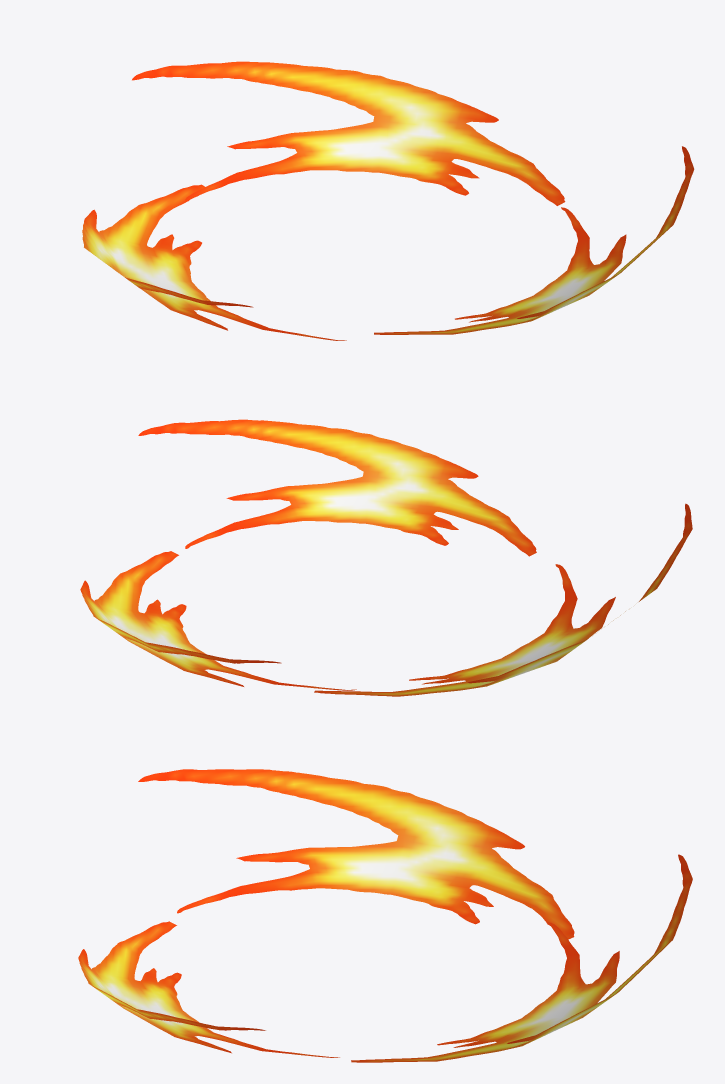
The model's file is Flame_Spin01.FBX.
3 views of the same model, one above another, from view 1: azimuth 30°, elevation 25°; view 2: azimuth 150°, elevation 25°; view 3: azimuth 270°, elevation 25° (orthographic). The views are drawn at different scales.
Parts seen in each view (by area): view 1: Sphere004; view 2: Sphere004; view 3: Sphere004.
Boxes of the visible parts, x1,y1,x2,y2 form: Sphere004: (82,61,694,340); Sphere004: (80,419,692,696); Sphere004: (78,769,692,1062).
Size of the model in its own units: 116 by 17.92 by 113.
